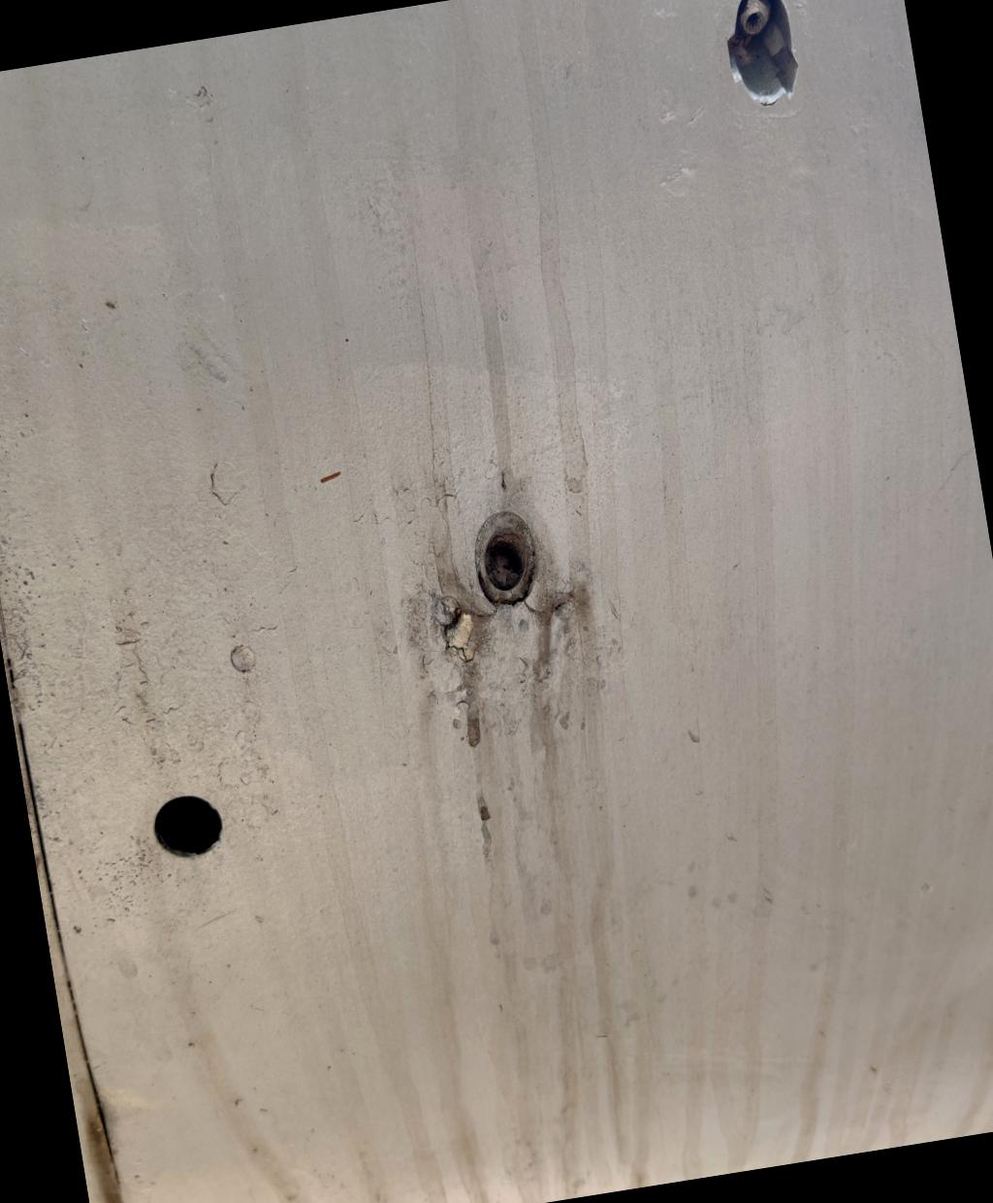crack: (415, 590, 495, 681)
